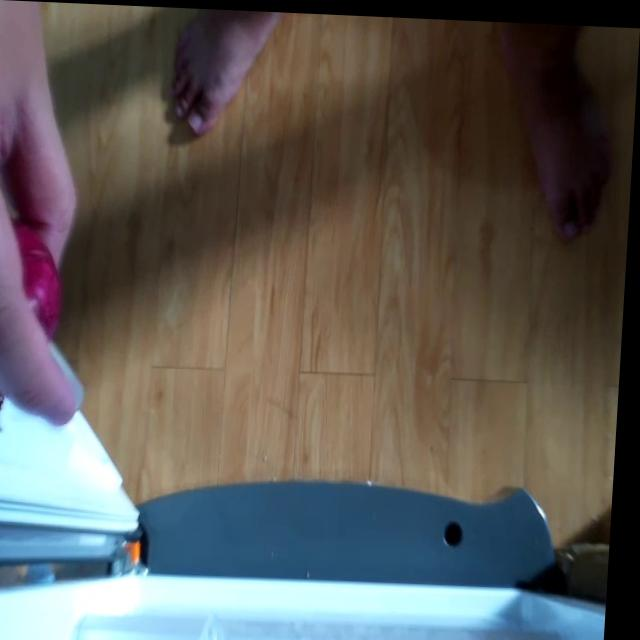onion: (0, 212, 90, 429)
